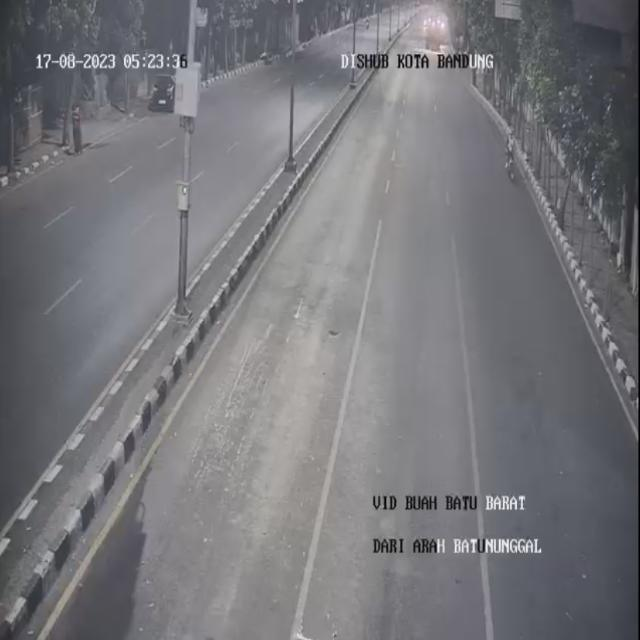motorcycle: (496, 121, 524, 191)
